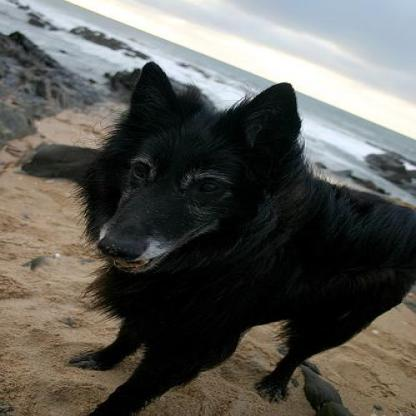groenendael: (70, 62, 412, 414)
